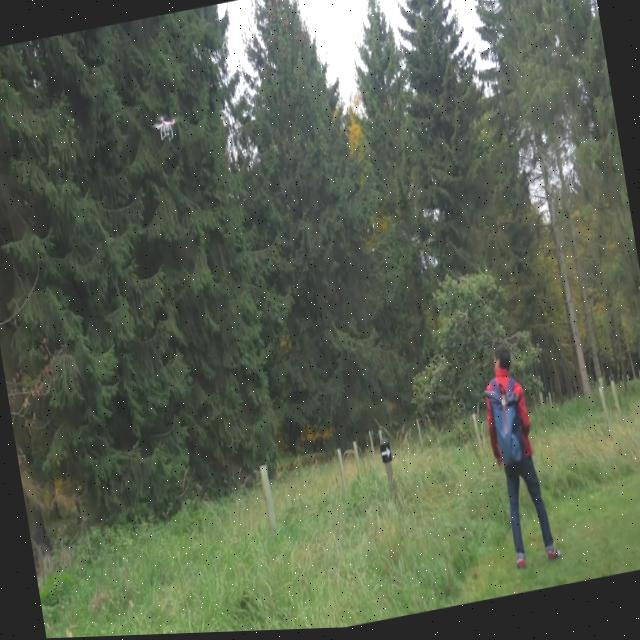drone: (150, 109, 180, 146)
